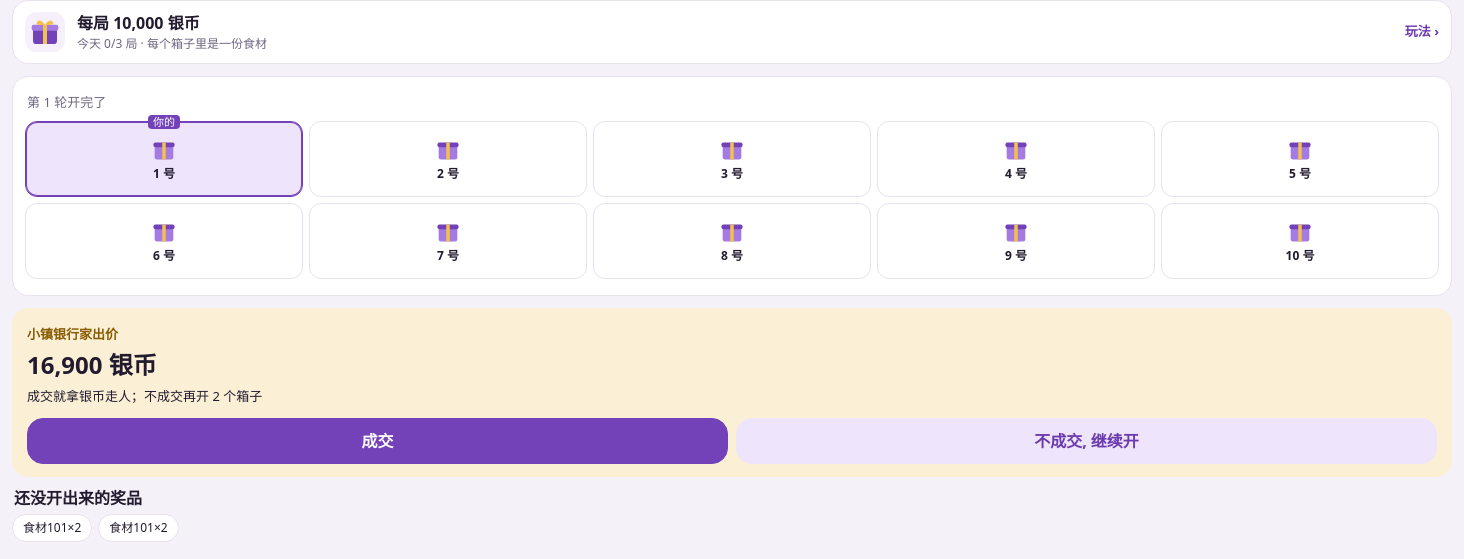
Test: DealPanel › 成交结束：写得到多少银币、你的箱子里是什么，公布全部箱子；有再来一局
Step 1. Click the button with test id "deal-yes" → (378, 441), box [27, 418, 728, 464]
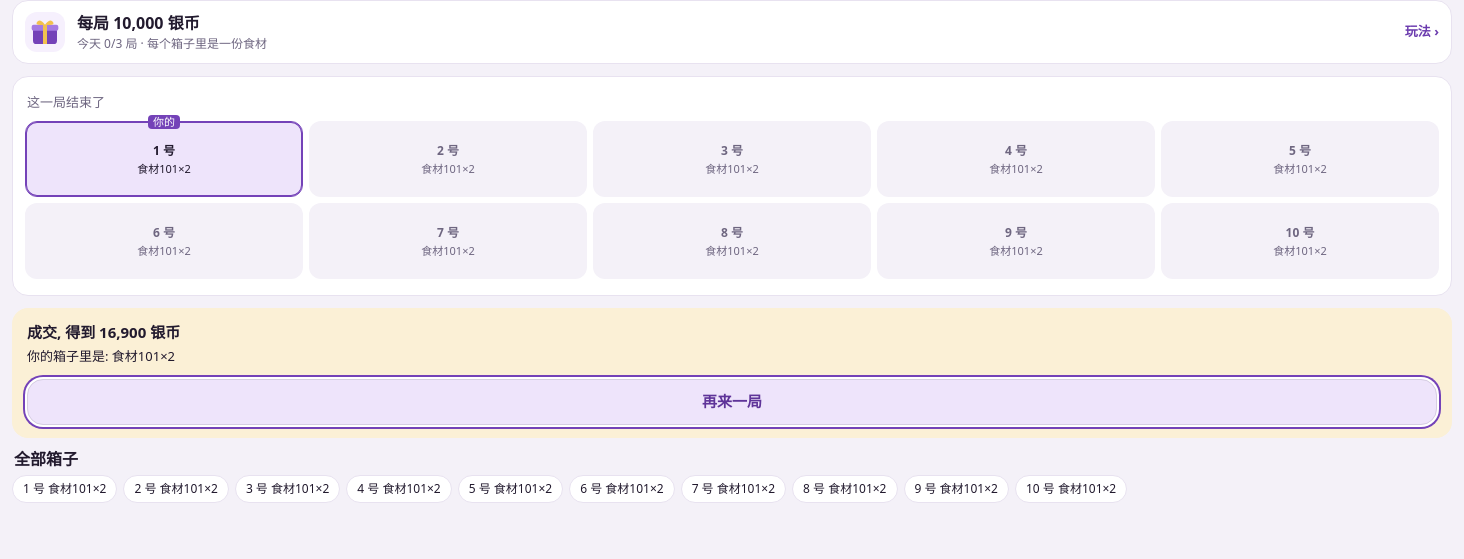
Result: the element with test id "deal-result" shows "成交, 得到 16,900 银币" at [27, 322, 180, 342]
Result: the element with test id "deal-result" shows "你的箱子里是" at [27, 347, 175, 365]
Step 2. Click the button with test id "deal-again" → (732, 402), box [27, 378, 1437, 424]
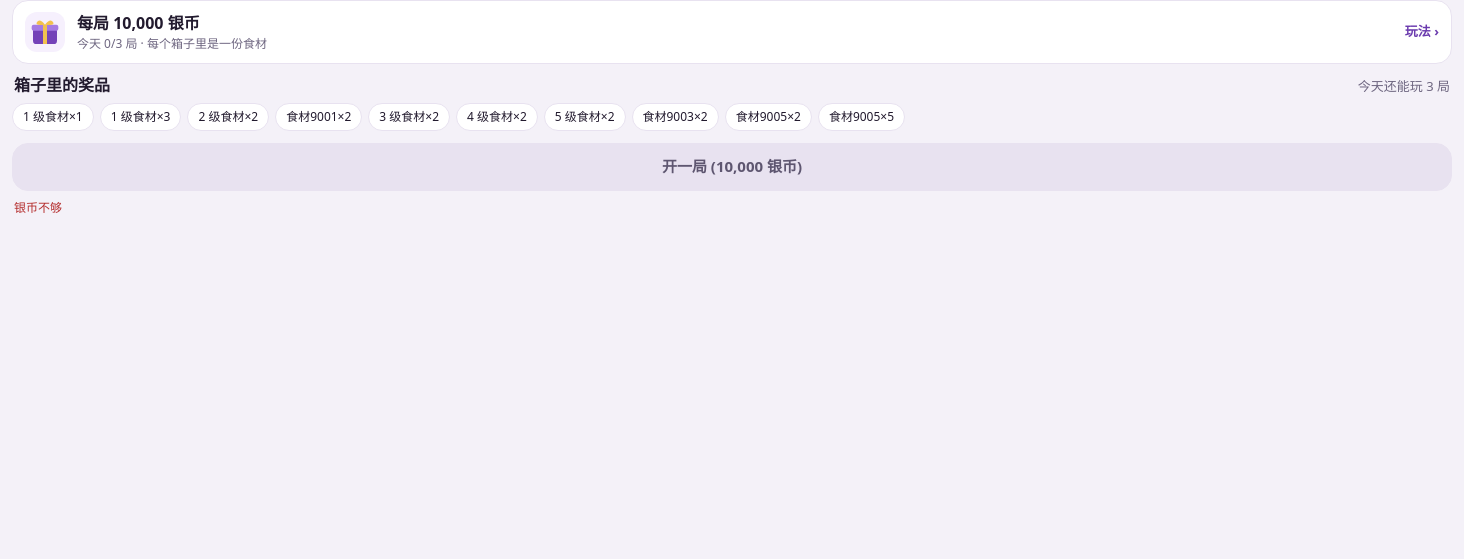
Result: the button with test id "deal-start" is shown at [12, 142, 1452, 190]
